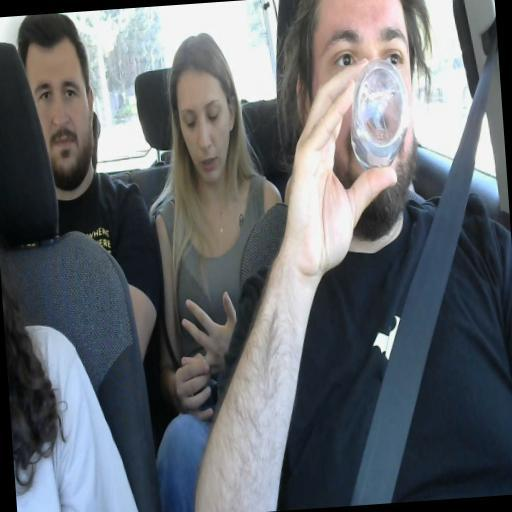Drinking: (299, 1, 414, 232)
